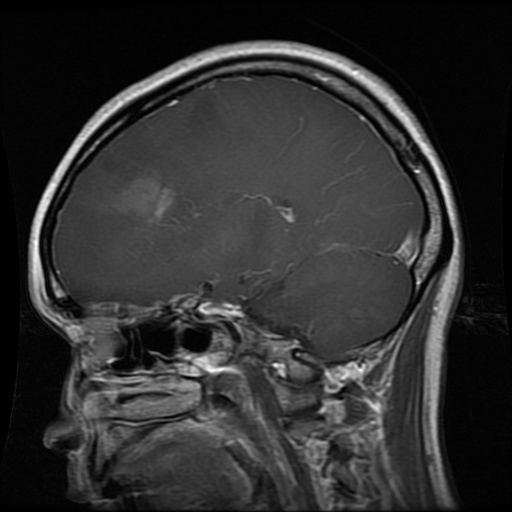glioma: (94, 175, 178, 219)
